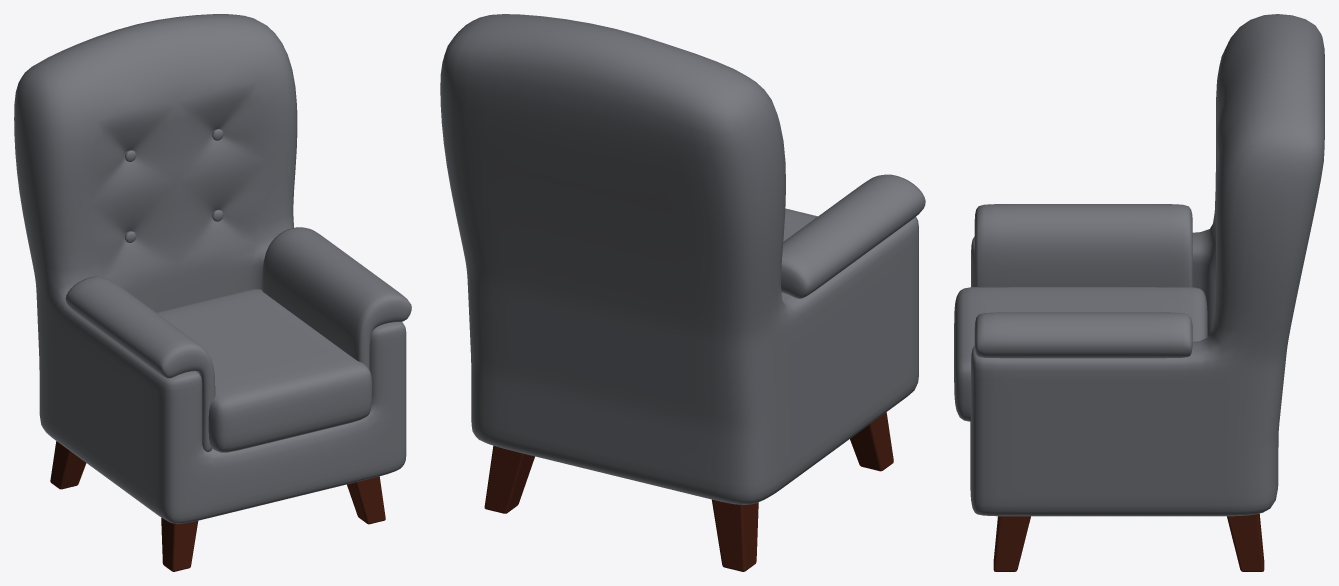
The model's file is sofa-chair.fbx.
3 renders of one model, left to right at view 1: azimuth 30°, elevation 25°; view 2: azimuth 150°, elevation 25°; view 3: azimuth 270°, elevation 25°, orthographic. The views are drawn at different scales.
Visible parts, largest first — view 1: Plane, Plane.001, Plane.002, Plane.003; view 2: Plane, Plane.002, Plane.003; view 3: Plane, Plane.002, Plane.001, Plane.003.
Part boxes in pixels (x1,y1,x2,y2): Plane: (14, 14, 406, 523); Plane.001: (156, 289, 371, 452); Plane.002: (65, 227, 411, 451); Plane.003: (50, 441, 385, 571); Plane: (440, 14, 918, 504); Plane.002: (781, 174, 925, 298); Plane.003: (484, 412, 893, 571); Plane: (970, 14, 1324, 516); Plane.002: (974, 204, 1192, 358); Plane.001: (954, 287, 1207, 421); Plane.003: (993, 513, 1264, 571).
Bounding box in the file's own units: 269 × 414 × 300.
